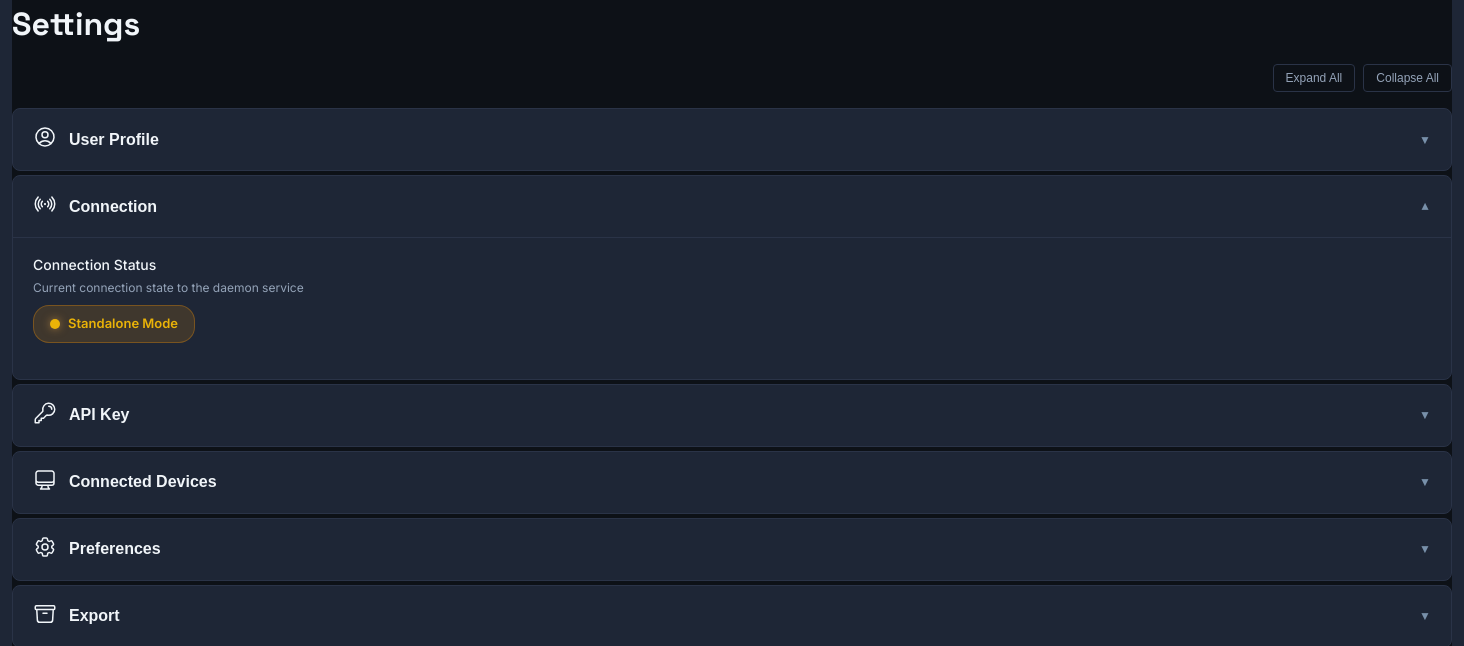
Scenario: Settings › accordion navigation › collapses all sections when Collapse All is clicked
First expand all
Click the button "Expand All". click: (1314, 78)
box: [1273,64,1355,92]
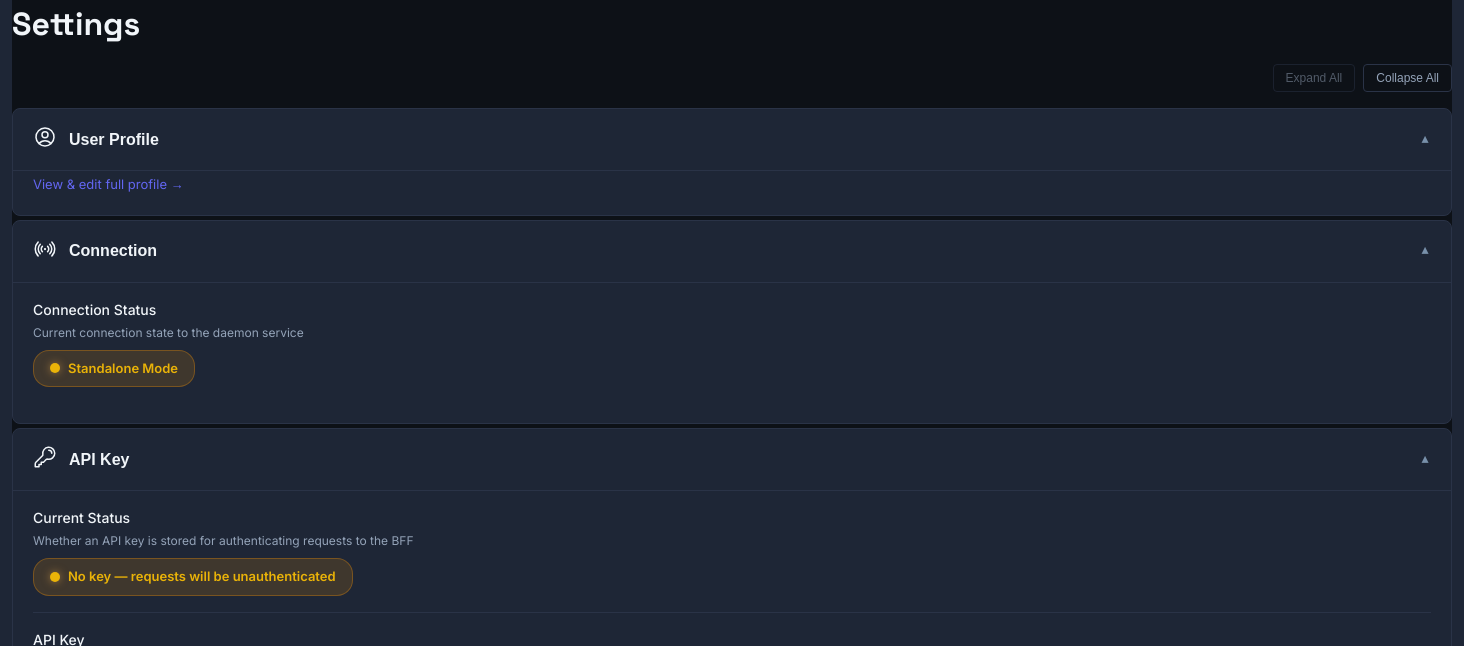
Then collapse all
Click the button "Collapse All". click: (1408, 78)
box: [1363,64,1452,92]
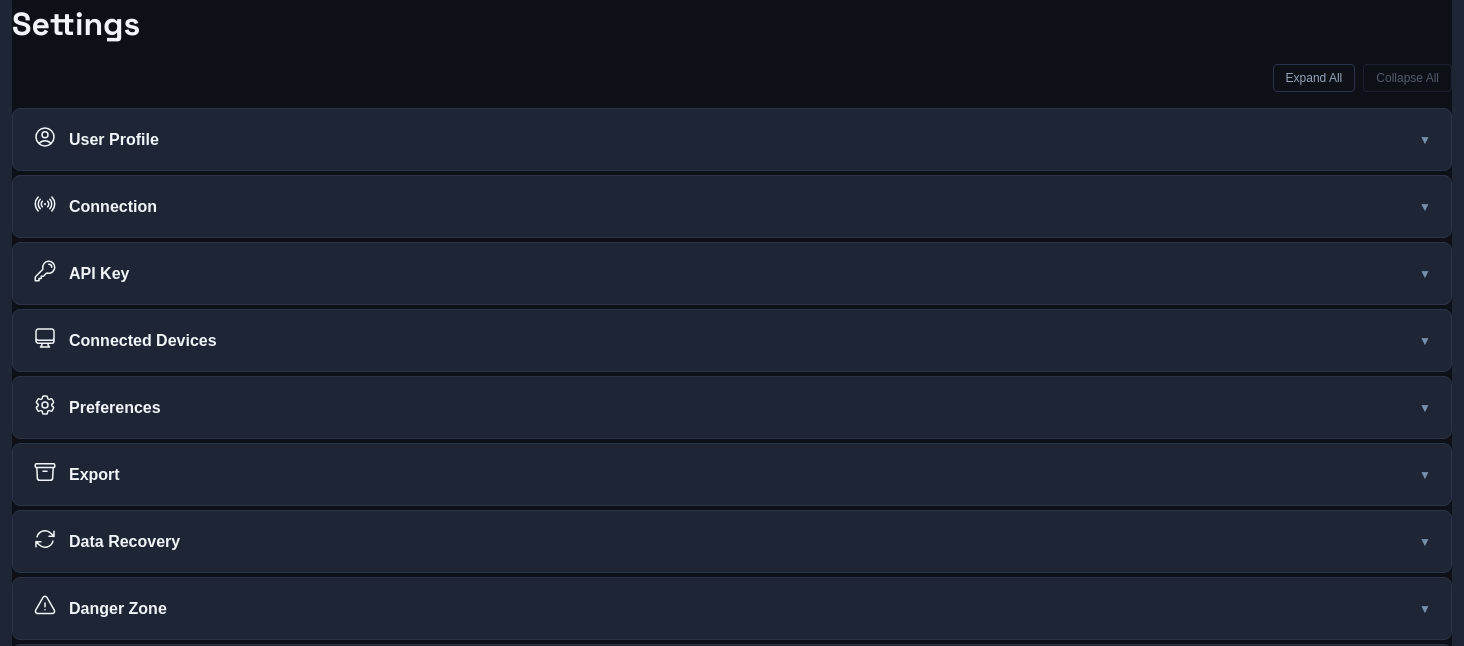
expect the button "Connection ▼" is collapsed: met, box [13,176,1451,237]
expect the button "Preferences ▼" is collapsed: met, box [13,377,1451,438]
